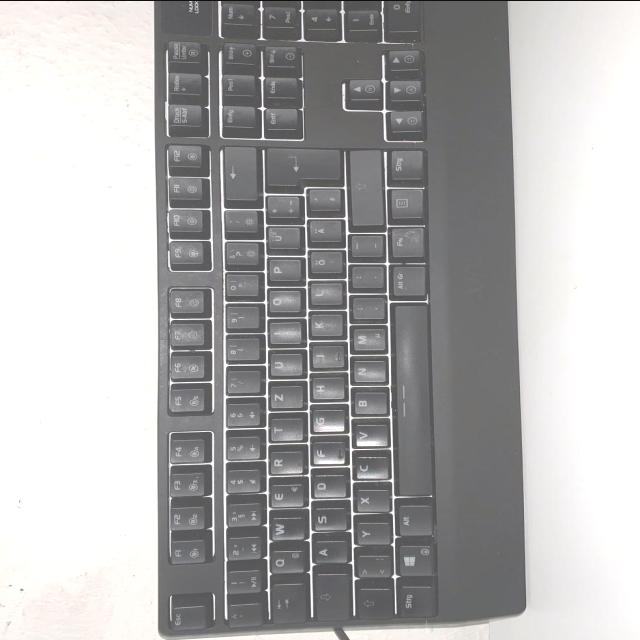0: (220, 274, 258, 301)
1: (222, 570, 260, 597)
2: (222, 537, 261, 563)
3: (222, 504, 261, 530)
4: (221, 470, 259, 496)
5: (221, 436, 259, 462)
6: (221, 403, 260, 429)
7: (222, 370, 260, 396)
8: (221, 338, 260, 365)
9: (220, 306, 258, 332)
a: (307, 541, 346, 566)
accent: (219, 211, 256, 236)
ae: (303, 221, 341, 245)
alt-left: (392, 507, 430, 539)
altgr-right: (386, 267, 424, 300)
b: (347, 392, 385, 419)
c: (348, 455, 387, 483)
caret: (223, 605, 259, 629)
comma: (345, 297, 383, 323)
d: (306, 475, 346, 501)
del: (217, 149, 255, 203)
e: (264, 484, 303, 510)
enter: (260, 150, 340, 191)
f: (306, 443, 343, 467)
g: (306, 411, 344, 435)
h: (306, 378, 343, 403)
hash: (302, 191, 339, 215)
i: (264, 323, 299, 348)
j: (305, 347, 343, 371)
k: (304, 314, 341, 340)
keyboard: (150, 0, 448, 640)
l: (304, 283, 341, 308)
less: (350, 556, 389, 580)
m: (346, 329, 384, 355)
minus: (344, 236, 382, 260)
n: (346, 360, 384, 386)
o: (263, 291, 299, 317)
oe: (304, 252, 341, 278)
p: (262, 260, 300, 284)
plus: (261, 197, 299, 221)
point: (344, 267, 381, 291)
q: (266, 550, 304, 576)
r: (264, 450, 302, 477)
s: (306, 508, 346, 534)
shift-left: (352, 590, 391, 622)
shift-lock: (309, 573, 349, 623)
shift-right: (343, 150, 381, 231)
space: (388, 305, 429, 499)
ss: (220, 243, 258, 269)
strg-left: (393, 587, 433, 620)
strg-right: (385, 151, 421, 183)
t: (264, 418, 302, 444)
tab: (266, 585, 305, 625)
u: (264, 353, 301, 379)
ue: (261, 227, 299, 253)
v: (348, 423, 386, 451)
w: (265, 517, 304, 543)
x: (349, 490, 388, 515)
y: (350, 523, 389, 547)
z: (264, 386, 301, 412)
